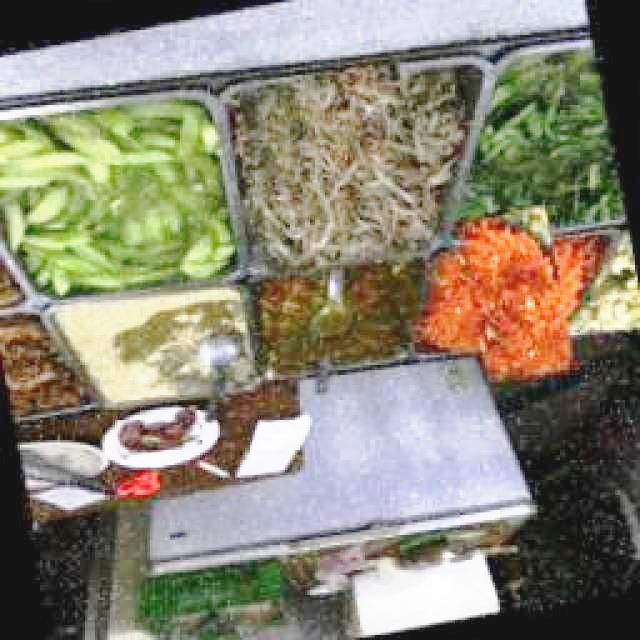carrot_eggs: (418, 213, 609, 384)
mung_bean_sprouts: (224, 60, 468, 274)
